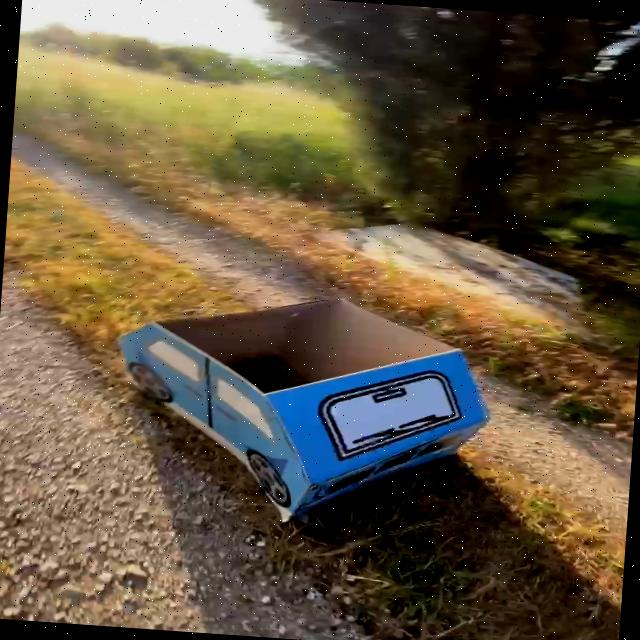blue_car: (98, 273, 528, 549)
